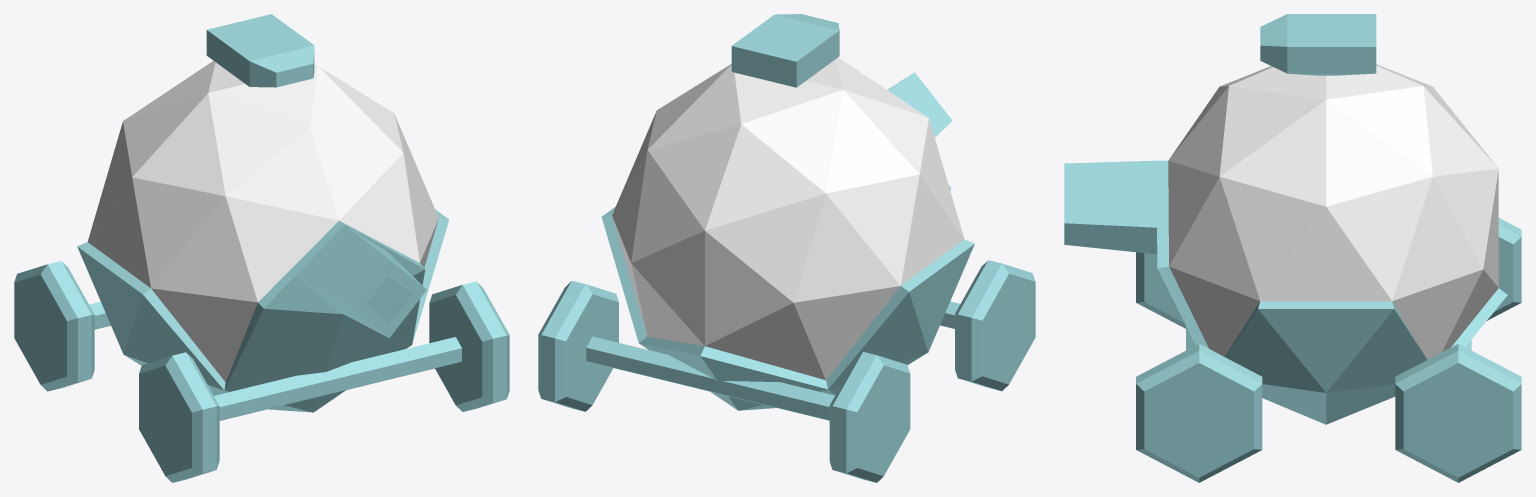
Rendered from bubble car.fbx.
The picture shows the model from 3 angles, left to right: view 1: azimuth 30°, elevation 25°; view 2: azimuth 150°, elevation 25°; view 3: azimuth 270°, elevation 25°; orthographic projection. The views are drawn at different scales.
Parts seen in each view (by area): view 1: polySurface4, polySurface5, polySurface3, polySurface1, pCube1; view 2: polySurface4, polySurface1, polySurface5, polySurface3, pCube1; view 3: polySurface4, polySurface5, polySurface1, polySurface3, pCube1.
Boxes of the visible parts, x1,y1,x2,y2 form: polySurface4: (87, 61, 438, 381); polySurface5: (77, 209, 448, 412); polySurface3: (139, 281, 509, 482); polySurface1: (14, 261, 110, 391); pCube1: (206, 14, 314, 87); polySurface4: (612, 57, 964, 380); polySurface1: (538, 281, 910, 482); polySurface5: (601, 72, 974, 410); polySurface3: (940, 260, 1035, 391); pCube1: (731, 14, 839, 87); polySurface4: (1168, 64, 1498, 359); polySurface5: (1064, 160, 1507, 424); polySurface1: (1395, 218, 1521, 482); polySurface3: (1136, 252, 1262, 482); pCube1: (1260, 14, 1376, 75).
Size of the model in its own units: 2.06 by 2.24 by 2.48.
